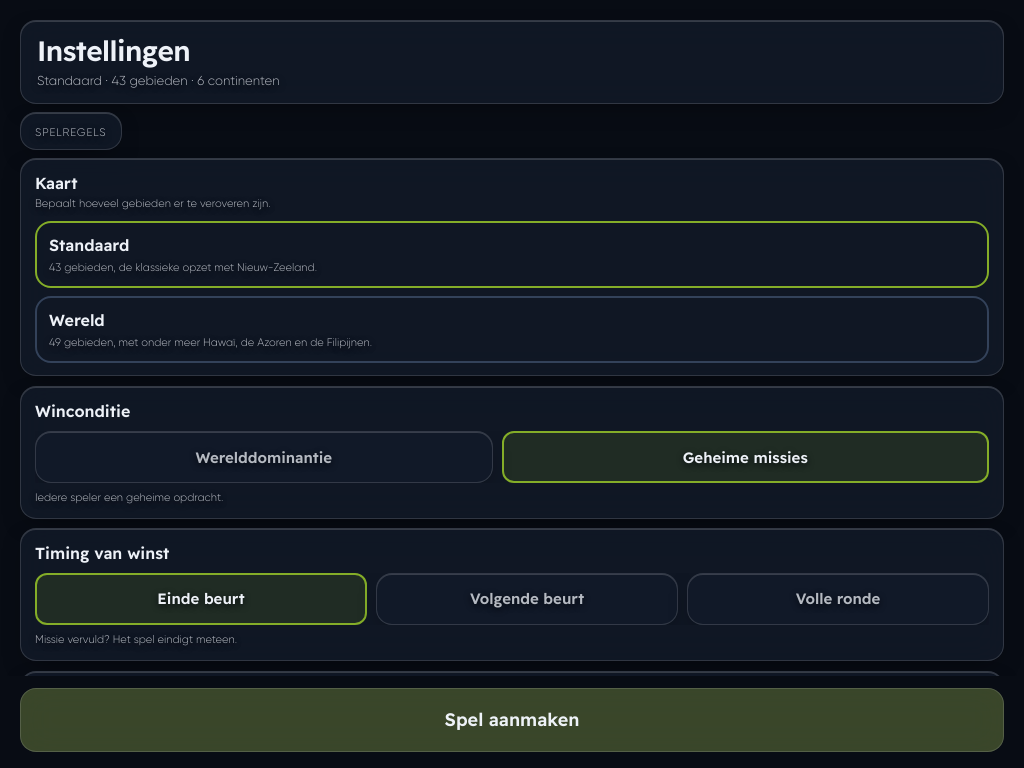
Test: CreateGameForm › toont een vertaalde fouttoast als de server het verzoek weigert
Click the button "Spel aanmaken".
click(512, 720)  # box [20,688,1004,752]
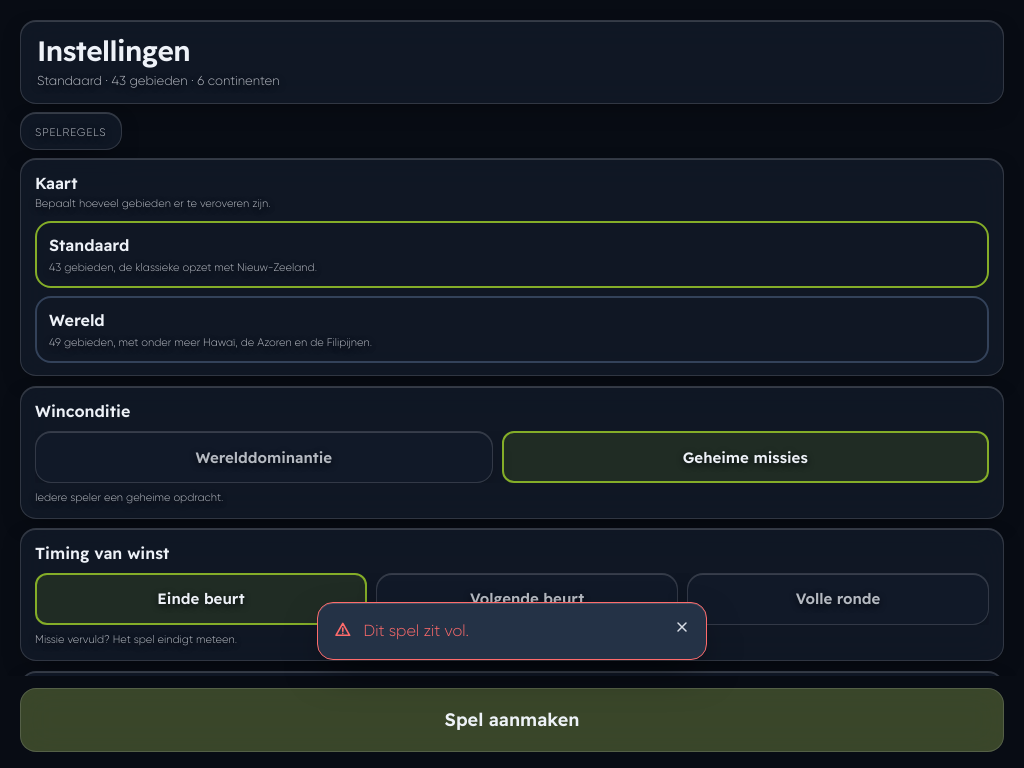
Expected: the message reads "Dit spel zit vol.", [364,621,469,640]
